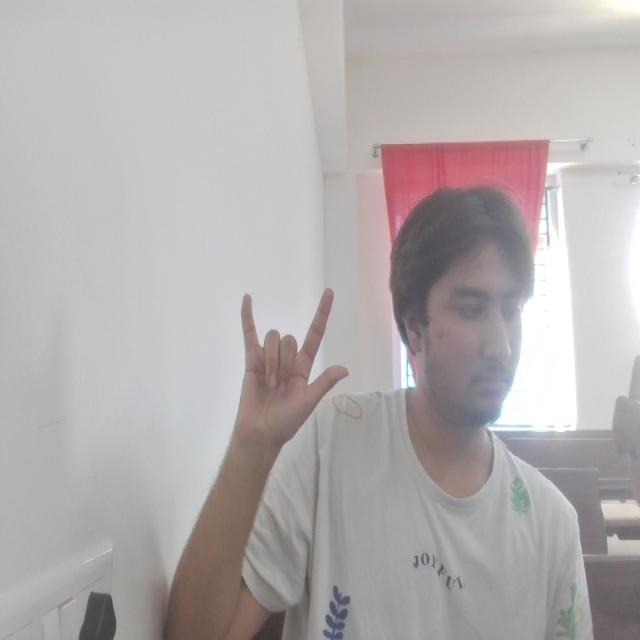iloveyou: (236, 284, 351, 446)
